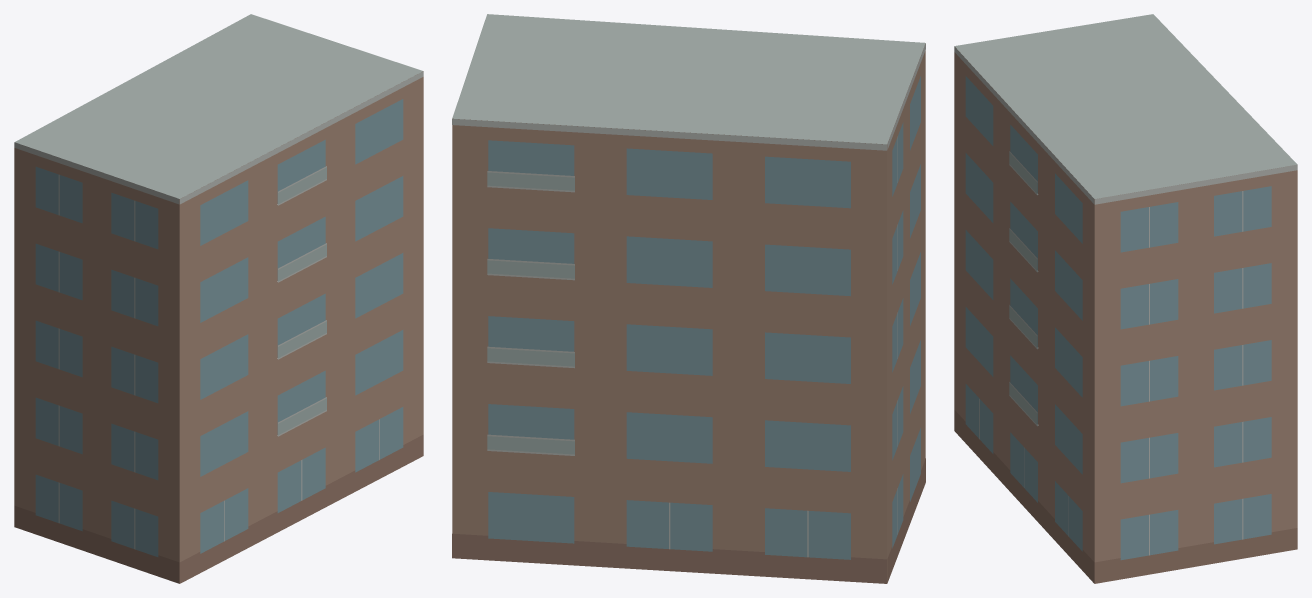
File: survey-upis-32881621.glb
The picture shows the model from 3 angles, left to right: view 1: azimuth 30°, elevation 25°; view 2: azimuth 150°, elevation 25°; view 3: azimuth 270°, elevation 25°; orthographic projection. The views are drawn at different scales.
Parts seen in each view (by area): view 1: survey-upis-32881621.tmp; view 2: survey-upis-32881621.tmp; view 3: survey-upis-32881621.tmp.
Boxes of the visible parts, <box> form: survey-upis-32881621.tmp: <box>14,14,423,583</box>; survey-upis-32881621.tmp: <box>452,14,925,583</box>; survey-upis-32881621.tmp: <box>954,14,1297,583</box>.
Size of the model in its own units: 17.35 by 16.8 by 13.6.
